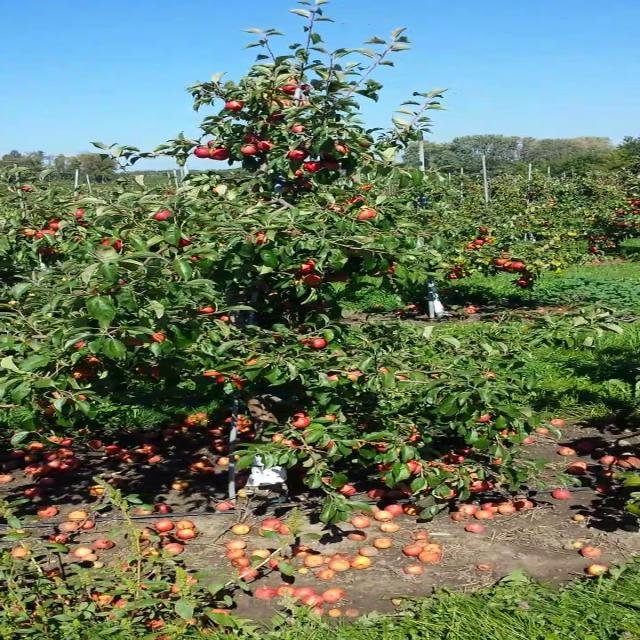apple: (133, 331, 167, 346), (270, 433, 300, 447), (346, 370, 372, 384), (292, 260, 318, 272), (202, 371, 224, 385), (83, 366, 105, 380), (39, 402, 58, 418), (438, 464, 467, 474), (407, 428, 427, 442), (438, 452, 463, 463), (284, 150, 310, 160), (228, 374, 244, 390), (305, 338, 328, 349), (378, 462, 399, 474), (209, 149, 229, 161), (148, 365, 164, 380), (467, 481, 488, 492), (255, 139, 271, 153), (355, 210, 377, 220), (303, 275, 324, 285), (292, 418, 313, 428), (43, 246, 64, 256), (70, 210, 86, 223), (302, 161, 320, 172), (377, 441, 393, 453), (314, 440, 333, 450), (37, 230, 58, 239), (291, 124, 309, 134), (48, 219, 64, 230), (226, 100, 243, 110), (240, 146, 257, 156), (334, 144, 351, 154), (324, 160, 341, 170), (197, 304, 214, 314), (154, 212, 175, 220), (404, 462, 418, 474), (22, 228, 38, 238), (100, 240, 120, 248), (382, 266, 402, 274), (329, 274, 349, 282), (84, 356, 104, 364), (345, 196, 364, 204), (282, 82, 297, 92), (194, 148, 209, 158), (326, 371, 341, 381), (270, 99, 294, 105), (244, 134, 260, 143), (254, 232, 266, 244), (447, 486, 459, 498), (506, 262, 524, 270), (268, 112, 282, 122), (302, 181, 316, 191), (243, 357, 257, 367), (322, 414, 338, 422), (476, 414, 492, 422), (498, 258, 512, 266), (295, 168, 306, 178), (394, 375, 412, 381), (483, 371, 496, 379), (75, 342, 89, 349), (281, 302, 293, 310), (298, 100, 313, 106), (292, 413, 310, 418), (375, 366, 389, 372), (220, 316, 230, 324), (300, 428, 308, 438), (181, 239, 191, 247), (206, 140, 216, 147), (301, 85, 312, 91), (77, 394, 88, 400), (195, 255, 201, 263)
